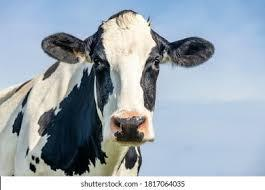cow: (0, 10, 216, 176)
